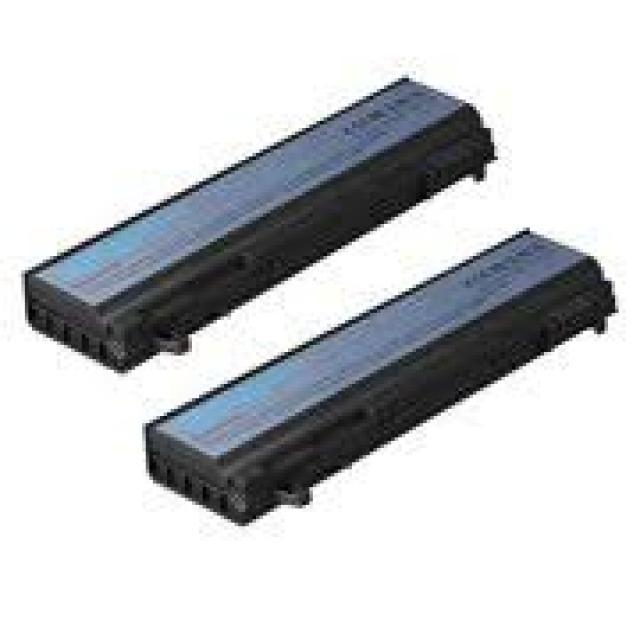battery: (144, 220, 619, 531), (21, 73, 498, 376)
